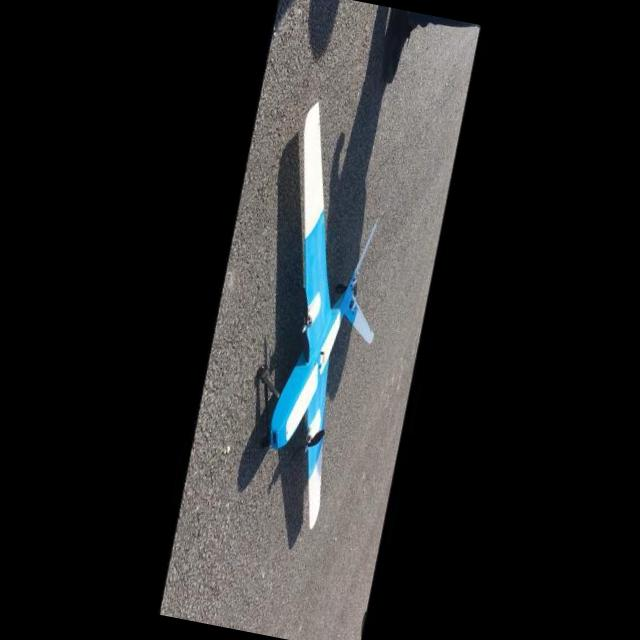UAV: (188, 93, 416, 548)
